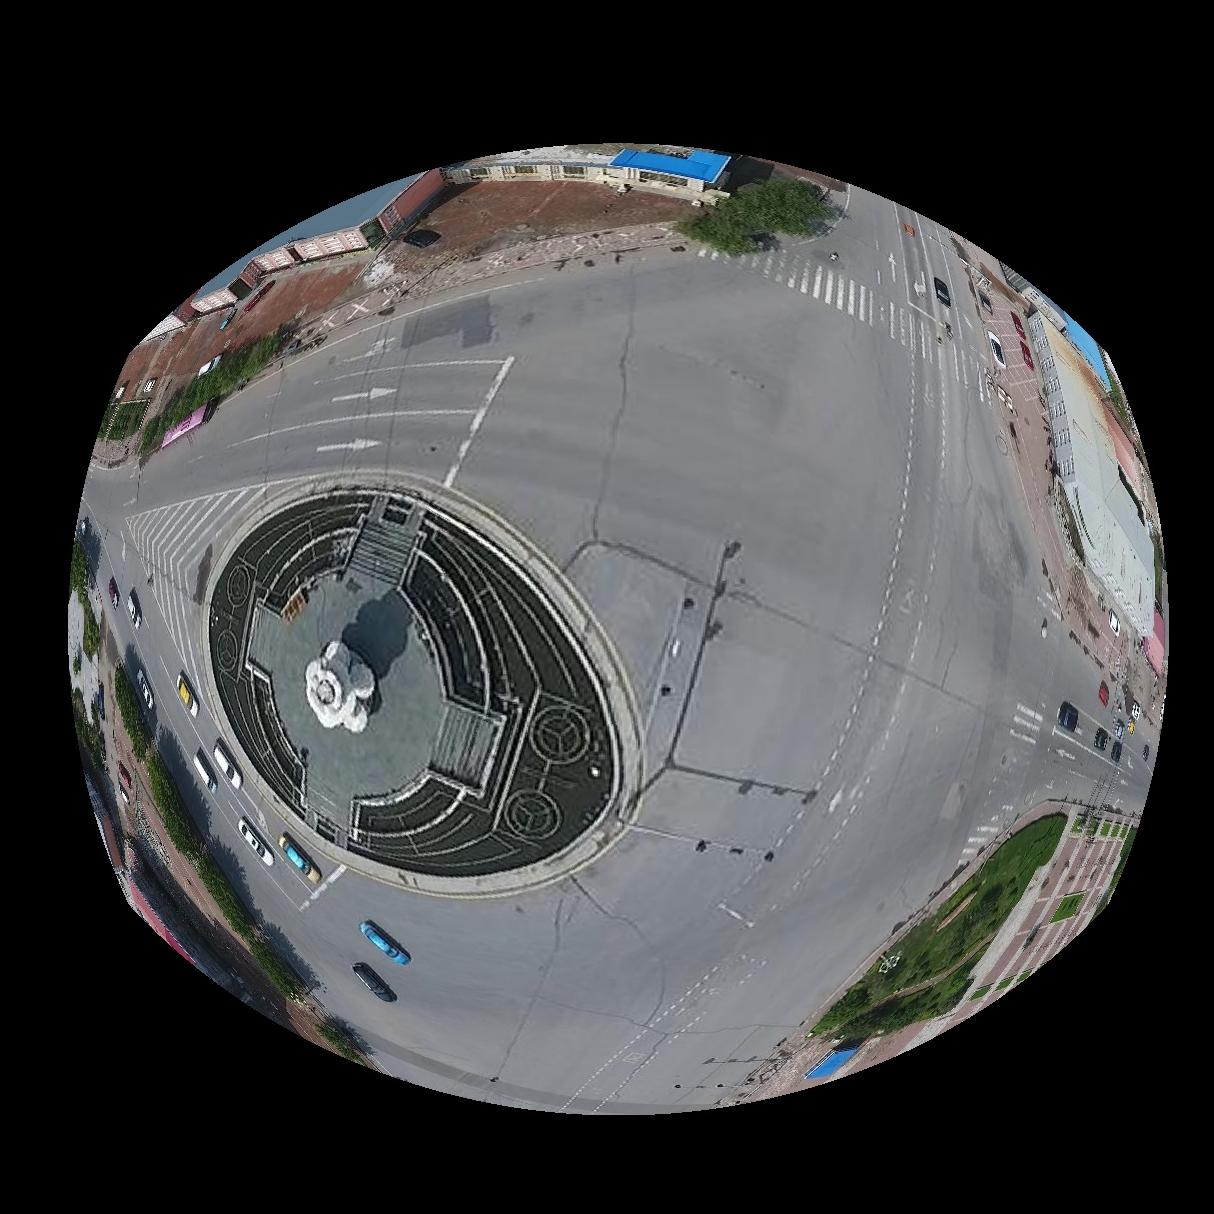building: (1029, 312, 1158, 637), (189, 175, 419, 297), (445, 145, 732, 202), (805, 1039, 864, 1082)
cars: (159, 398, 215, 448), (358, 923, 409, 966), (277, 835, 320, 886), (235, 818, 273, 867), (350, 965, 396, 1005), (212, 742, 240, 789), (191, 750, 216, 794), (175, 671, 197, 716), (131, 668, 153, 709), (404, 227, 440, 247), (1058, 701, 1079, 734), (125, 590, 140, 628), (105, 577, 118, 608), (1095, 729, 1111, 752), (1112, 742, 1124, 765), (1099, 681, 1111, 707)
trees: (810, 814, 1068, 1043), (136, 321, 295, 457), (678, 177, 834, 255), (185, 842, 241, 933), (239, 931, 307, 1005), (145, 755, 189, 853), (112, 666, 150, 762), (315, 1017, 370, 1068), (94, 399, 146, 441), (67, 529, 94, 603), (77, 593, 98, 659)
